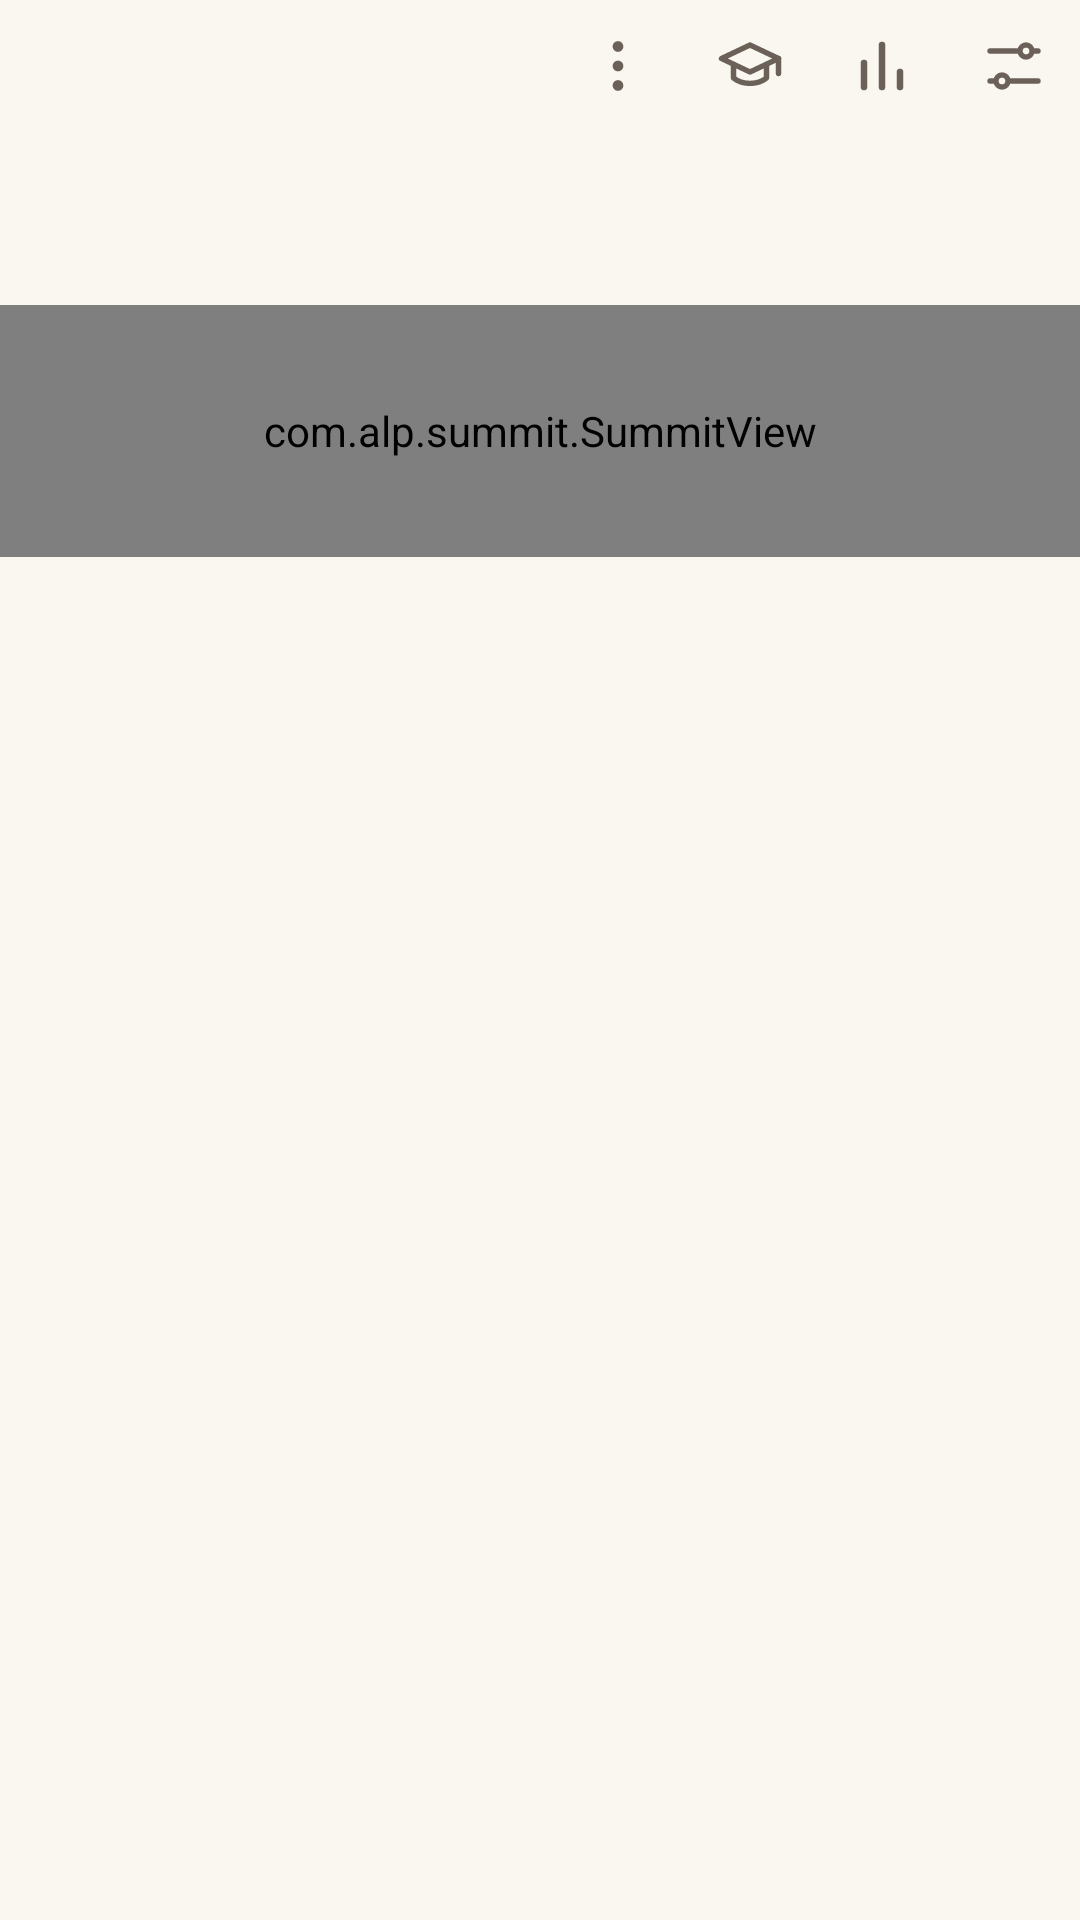

Icons on this 1080px x 1920px Android screen, each with its box as (x1,y1,x2,y2):
Courses: (718,42,782,86)
Day menu: (612,41,624,91)
Progress: (860,41,904,91)
Settings: (987,42,1041,90)
